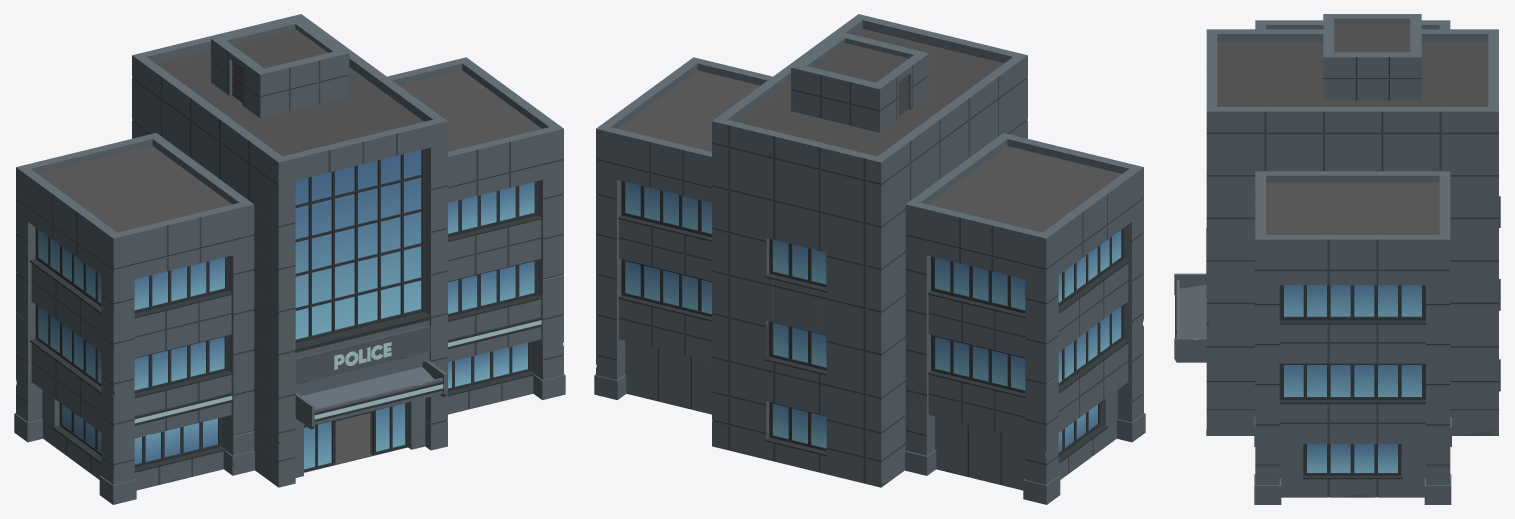
Rendered from SM_Buildings_Police_01.fbx.
3 views of the same model, side by side, from view 1: azimuth 30°, elevation 25°; view 2: azimuth 150°, elevation 25°; view 3: azimuth 270°, elevation 25° (orthographic).
Parts seen in each view (by area): view 1: SM_Buildings_Police_01; view 2: SM_Buildings_Police_01; view 3: SM_Buildings_Police_01.
Boxes of the visible parts, <box> form: SM_Buildings_Police_01: <box>14,14,565,504</box>; SM_Buildings_Police_01: <box>594,14,1145,504</box>; SM_Buildings_Police_01: <box>1174,14,1500,504</box>.
Size of the model in its own units: 32.09 by 24.42 by 20.08.
